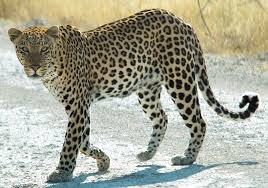Leopard: (7, 8, 261, 181)
